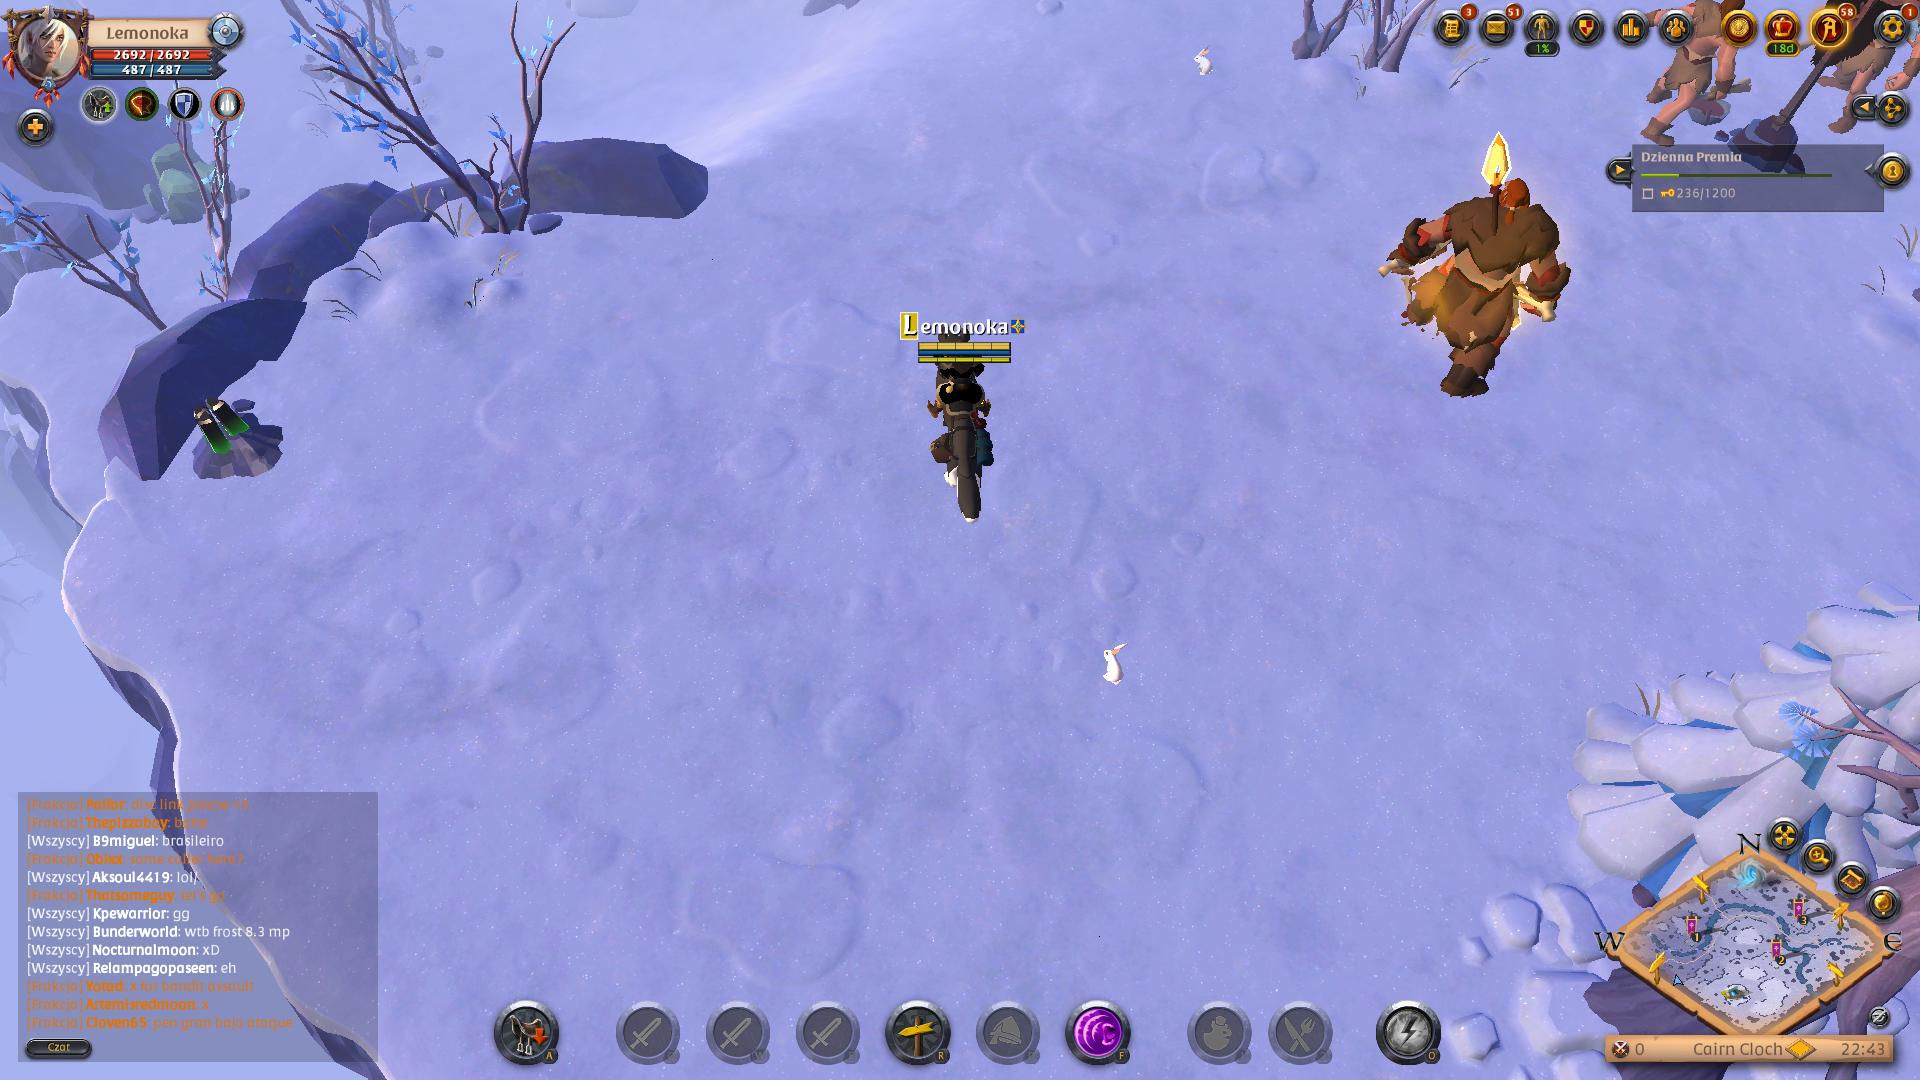ore tier 3: (175, 389, 286, 496)
